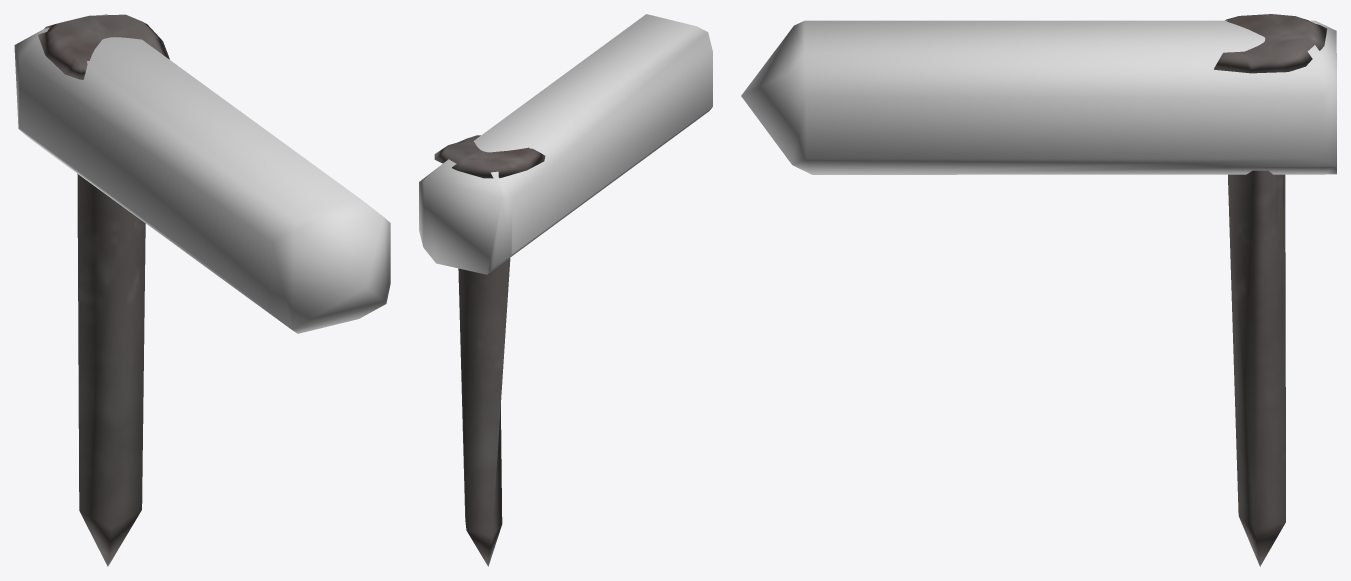
File: SM_Nail_A.fbx
The picture shows the model from 3 angles, left to right: view 1: azimuth 30°, elevation 25°; view 2: azimuth 150°, elevation 25°; view 3: azimuth 270°, elevation 25°; orthographic projection. The views are drawn at different scales.
Parts seen in each view (by area): view 1: SM_Nail_A_ConvexHulls, SM_Nail_A; view 2: SM_Nail_A_ConvexHulls, SM_Nail_A; view 3: SM_Nail_A_ConvexHulls, SM_Nail_A.
Boxes of the visible parts, bbox=[...] form: SM_Nail_A_ConvexHulls: bbox=[14, 14, 390, 333]; SM_Nail_A: bbox=[38, 14, 169, 566]; SM_Nail_A_ConvexHulls: bbox=[419, 14, 712, 274]; SM_Nail_A: bbox=[434, 135, 545, 566]; SM_Nail_A_ConvexHulls: bbox=[741, 20, 1336, 174]; SM_Nail_A: bbox=[1214, 14, 1327, 566].
Size of the model in its own units: 0.0393 by 0.1719 by 0.1739.
